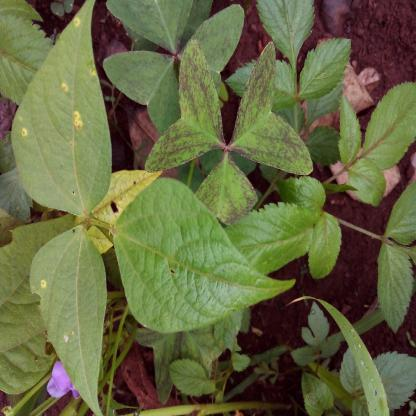Beans_Rust: (11, 0, 111, 216), (31, 230, 106, 416)
